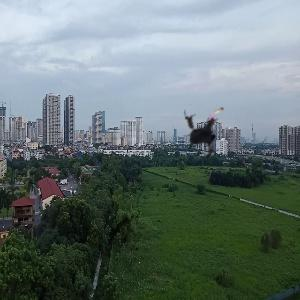drone: (175, 97, 246, 168)
